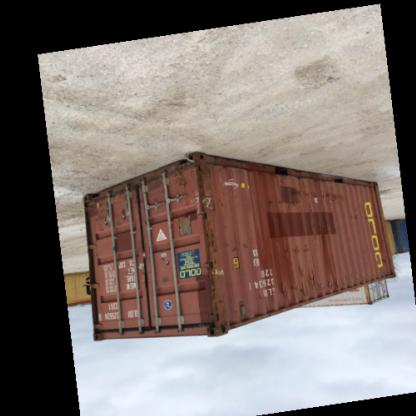Damage: (195, 170, 228, 330), (270, 270, 345, 296), (84, 196, 115, 237), (270, 240, 318, 262), (298, 189, 350, 206), (254, 193, 294, 212), (228, 235, 254, 264), (150, 249, 176, 273), (167, 168, 189, 194), (343, 214, 361, 225)
